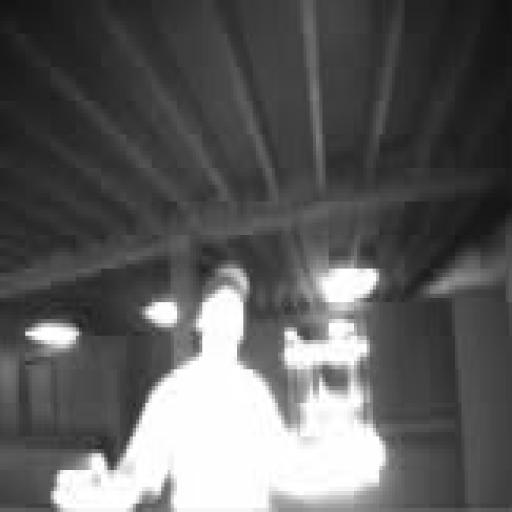human: (54, 265, 293, 511)
